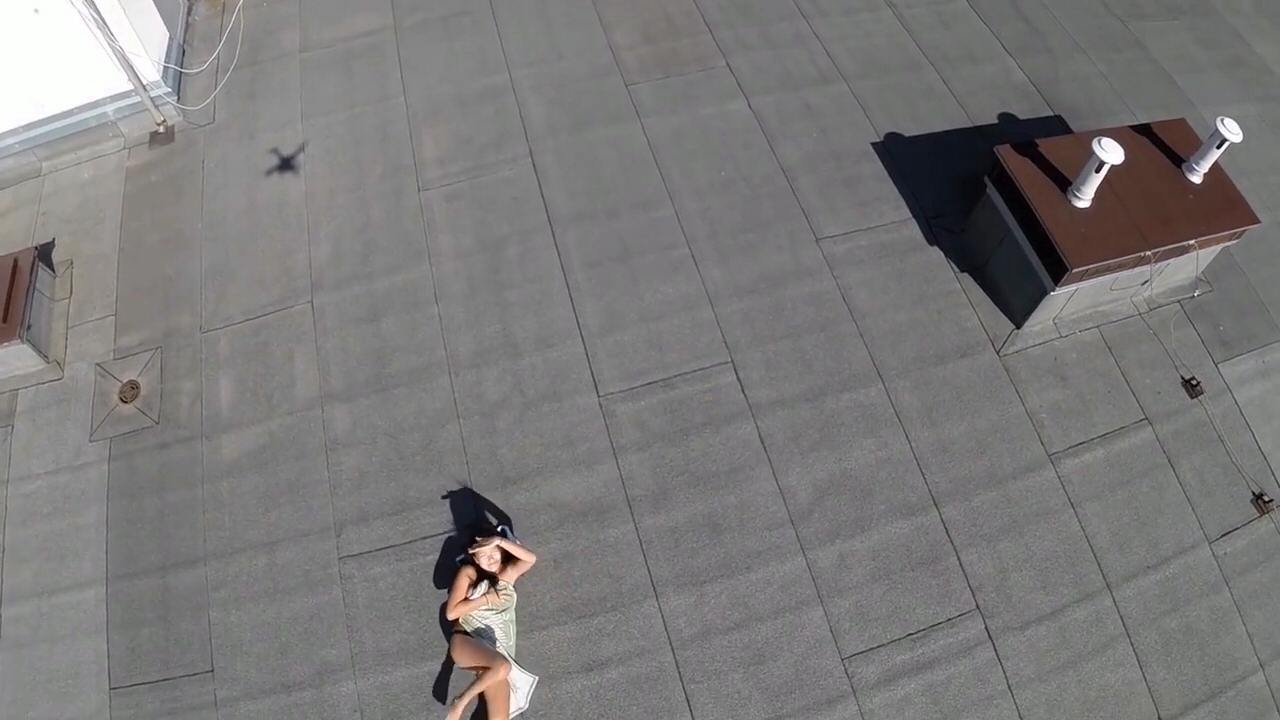insan: (434, 520, 544, 720)
